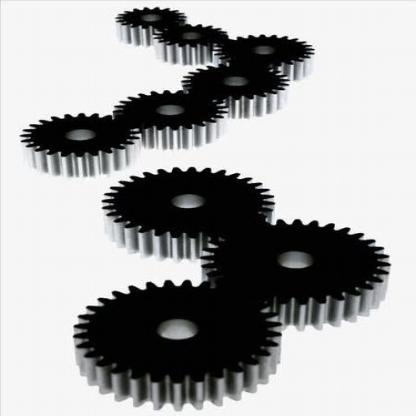FOD: (71, 274, 290, 412), (195, 217, 393, 333), (94, 163, 278, 260), (12, 106, 139, 183), (109, 89, 227, 151), (175, 63, 295, 123), (212, 31, 324, 80), (110, 6, 190, 52), (150, 25, 232, 66)
